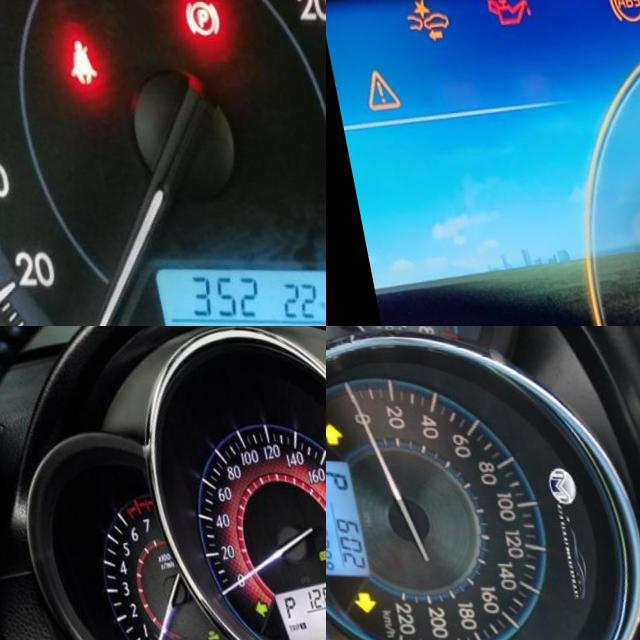Central Warning lamp: (358, 68, 398, 113)
Seat Belt: (52, 33, 87, 81)
